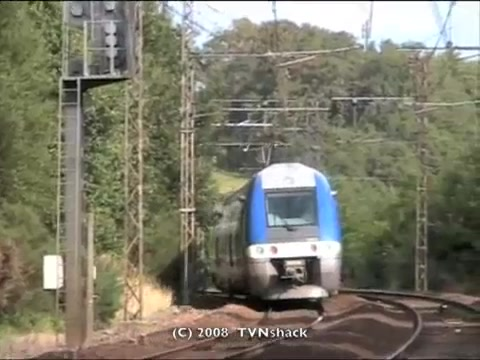train: (198, 162, 346, 306)
